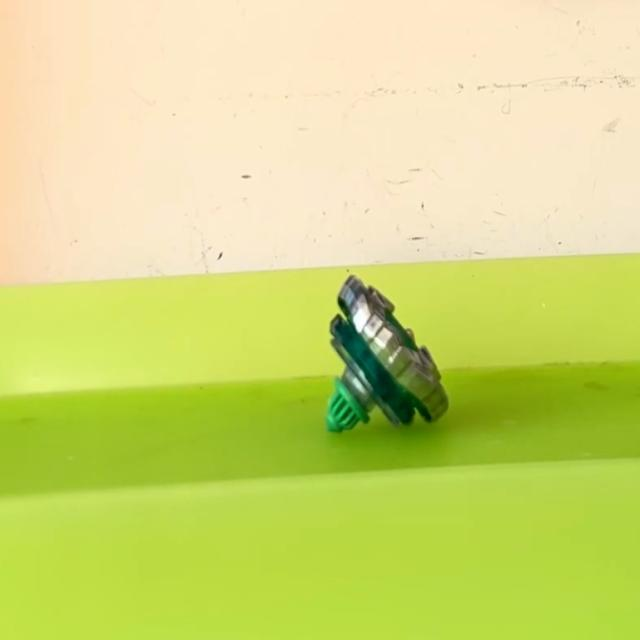Beyblade: (324, 274, 448, 432)
